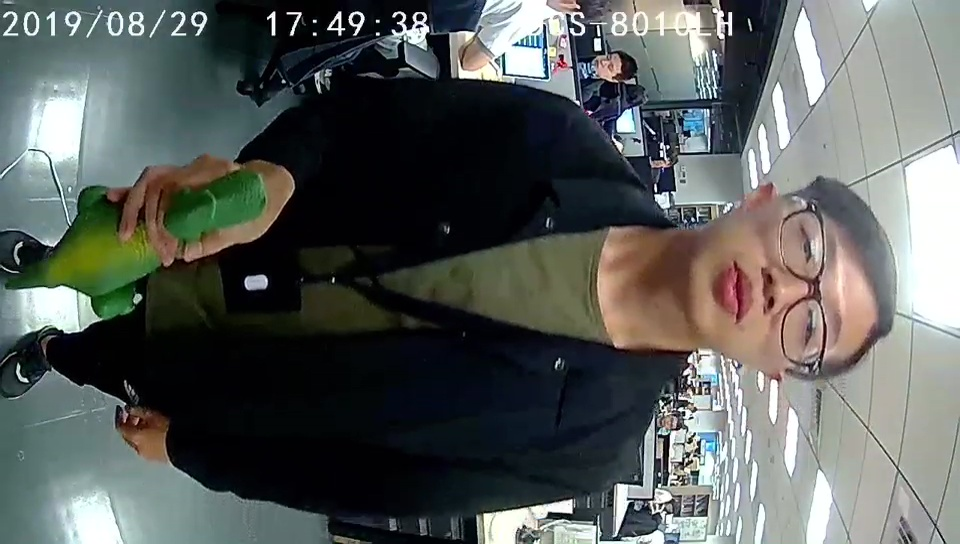rex: (51, 168, 269, 316)
